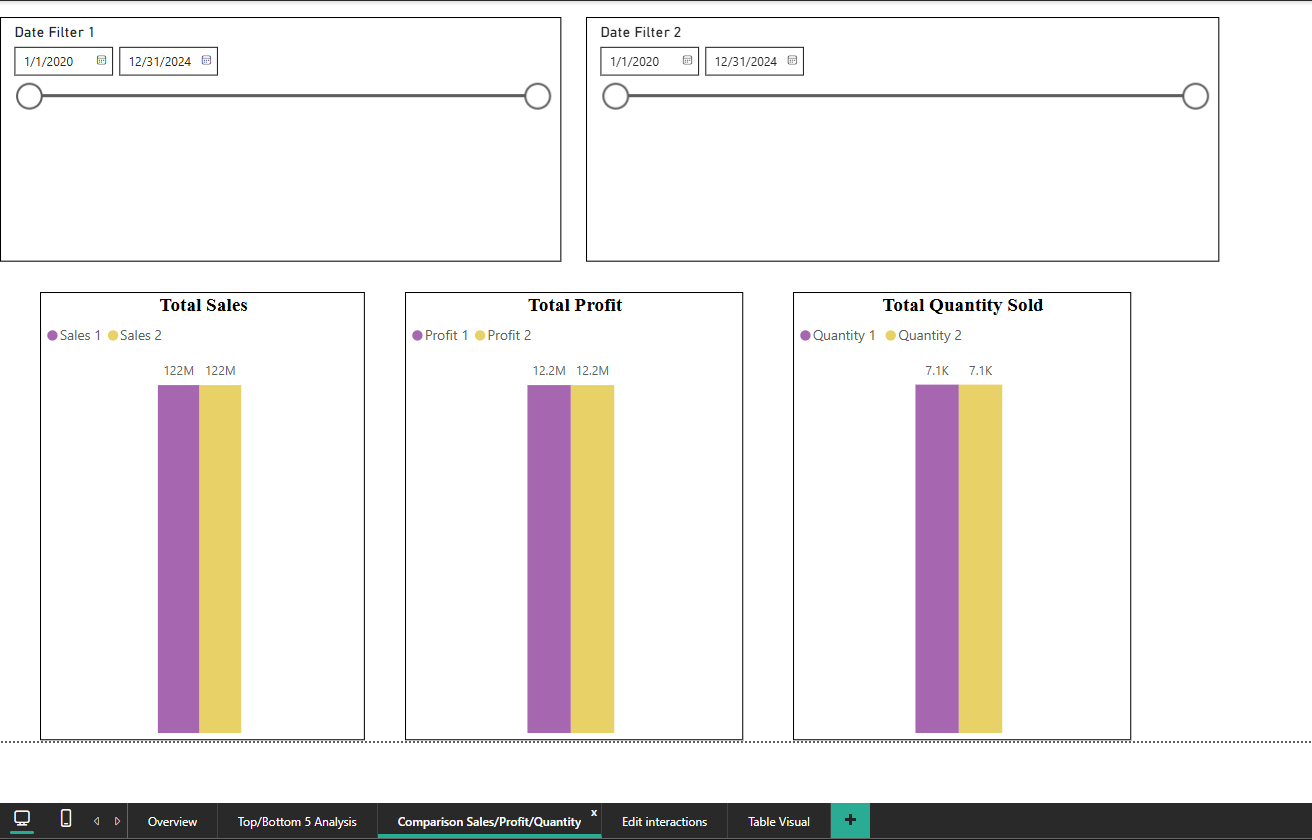

This screenshot's page, from the dashboard's own definition file:
{"tool":"powerbi","page":{"name":"Comparison Sales/Profit/Quantity","canvas":[1280,720],"ordinal":2},"visuals":[{"type":"slicer","fields":{"Values":["Date Table 1.Date"]},"box":[0,15.4,545.9,237.6],"z":0},{"type":"slicer","fields":{"Values":["Date Table 2.Date"]},"box":[570.4,15.4,615.7,237.6],"z":1000},{"type":"clusteredColumnChart","title":"Total Sales","fields":{"Y":["Sum(Fact Table.Net Sales    )","Date Table 1.Sum of Net Sales"]},"box":[38.4,283.5,316.2,436.3],"z":2000},{"type":"clusteredColumnChart","title":"Total Profit","fields":{"Y":["Sum(Fact Table.Profit)","Measures Table.Total Profit"]},"box":[394,283.5,328.6,436.3],"z":3000},{"type":"clusteredColumnChart","title":"Total Quantity Sold","fields":{"Y":["Sum(Fact Table.Units Sold)","Measures Table.Quantity sold"]},"box":[771.7,283.5,328.6,436.3],"z":4000}]}

Visuals, with their boxes in screenshot pixels (x1, y1, x2, y2):
slicer - Date Table 1.Date: BBox(7, 19, 559, 259)
slicer - Date Table 2.Date: BBox(583, 19, 1206, 259)
"Total Sales" clusteredColumnChart: BBox(46, 290, 365, 731)
"Total Profit" clusteredColumnChart: BBox(405, 290, 737, 731)
"Total Quantity Sold" clusteredColumnChart: BBox(787, 290, 1119, 731)
